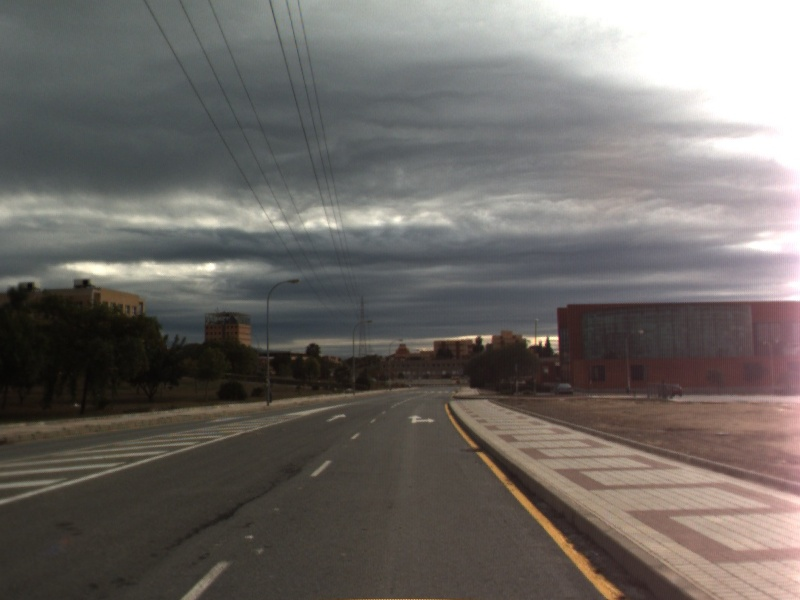STRAIGHT: (323, 411, 349, 424)
STRAIGHT_RIGHT: (406, 412, 437, 426)
